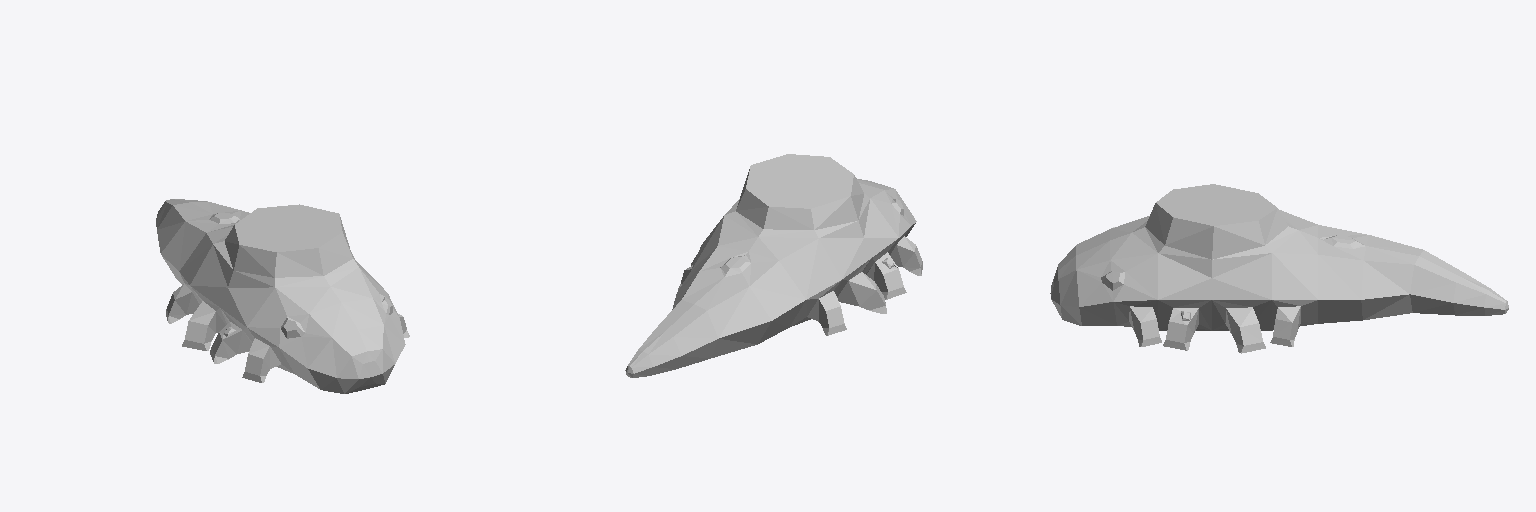
File: DS_CL_Running02.obj
3 views of the same model, side by side, from view 1: azimuth 30°, elevation 25°; view 2: azimuth 150°, elevation 25°; view 3: azimuth 270°, elevation 25° (orthographic).
Parts seen in each view (by area): view 1: default; view 2: default; view 3: default.
Part boxes in pixels (left/top/right/bottom): default: left=156, top=199, right=409, bottom=393; default: left=625, top=154, right=922, bottom=377; default: left=1050, top=184, right=1508, bottom=353.
Bounding box in the file's own units: 3.16 × 1.7 × 6.46.